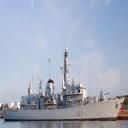Fragata: (3, 48, 126, 123)
